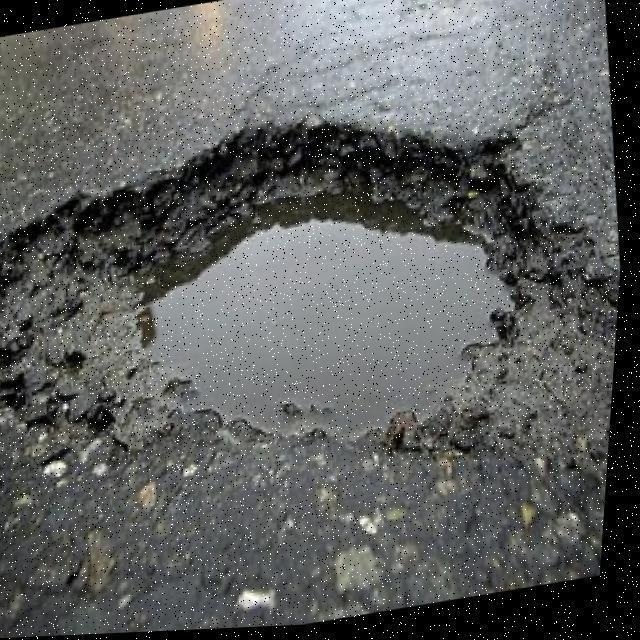Pothole: (0, 109, 615, 504)
